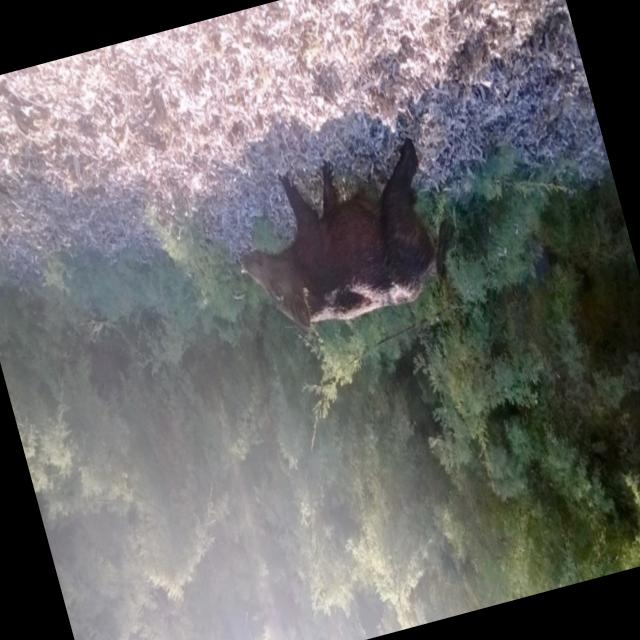pig: (238, 137, 455, 326)
